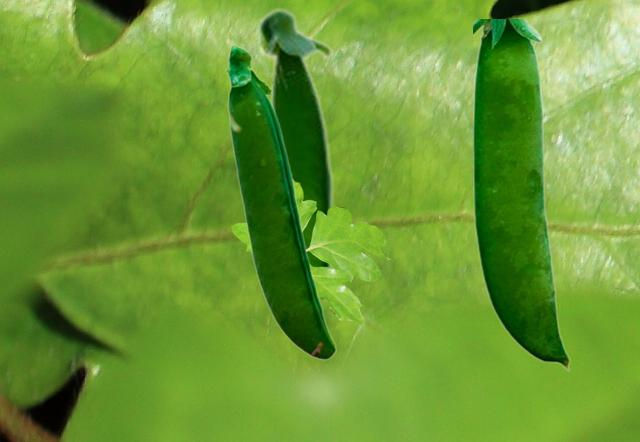pea: (225, 43, 335, 359), (473, 19, 569, 370), (255, 6, 334, 301)
